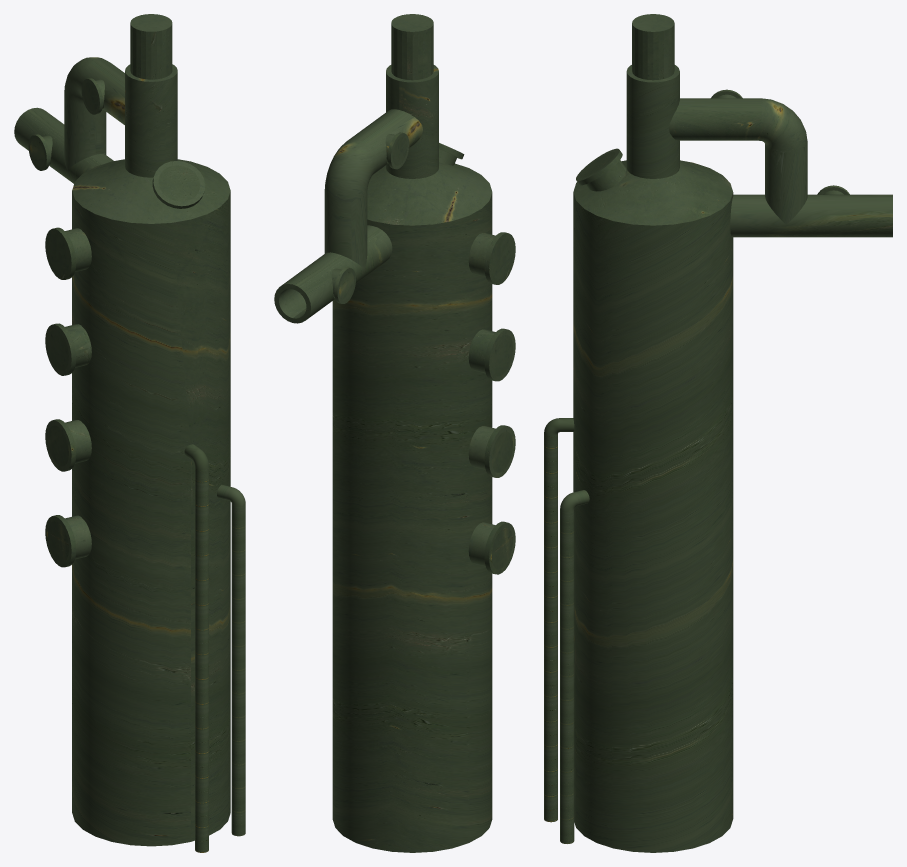
File: 喷淋塔.glb
3 renders of one model, left to right at view 1: azimuth 30°, elevation 25°; view 2: azimuth 150°, elevation 25°; view 3: azimuth 270°, elevation 25°, orthographic.
Parts seen in each view (by area): view 1: root; view 2: root; view 3: root.
Boxes of the visible parts, <box> form: root: <box>14,14,245,852</box>; root: <box>274,14,515,852</box>; root: <box>544,14,892,852</box>.
Bounding box in the file's own units: 3.49 × 16.5 × 6.55.
Materials: 1 (1 with a texture image).
